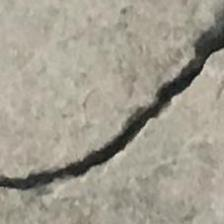Crack: (0, 15, 224, 192)
